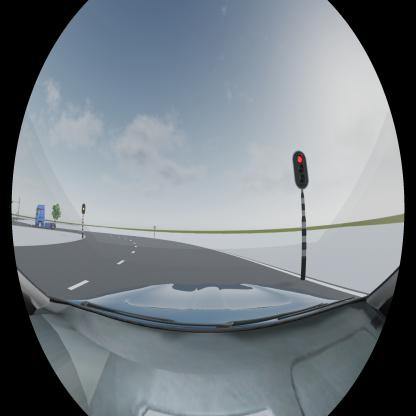Red Light: (293, 150, 309, 190)
Speed Limit 80: (154, 226, 156, 229)
